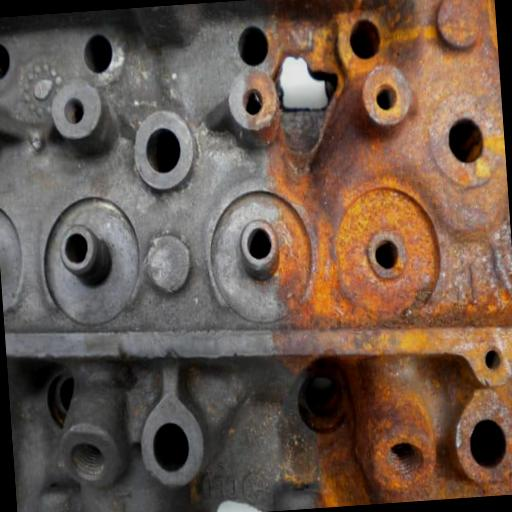segmentation: (312, 108, 511, 285), (285, 254, 512, 358), (320, 359, 477, 506), (378, 0, 493, 115), (381, 422, 489, 493), (278, 0, 355, 53)
